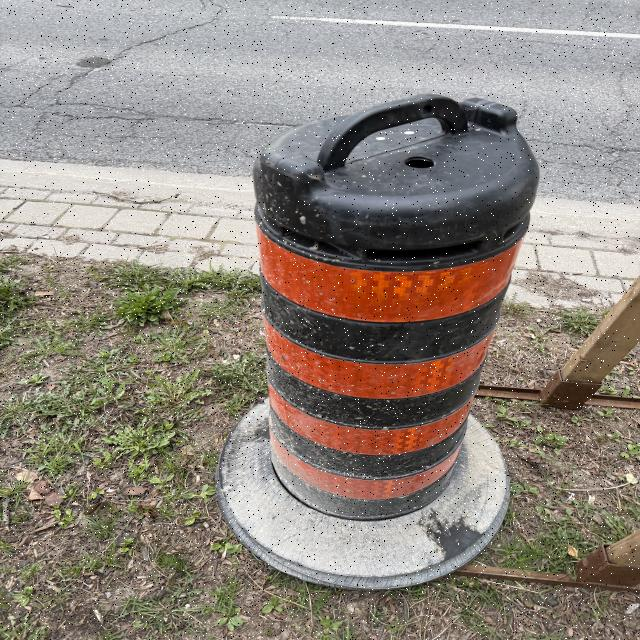Teraffic Barrel: (219, 95, 538, 585)
